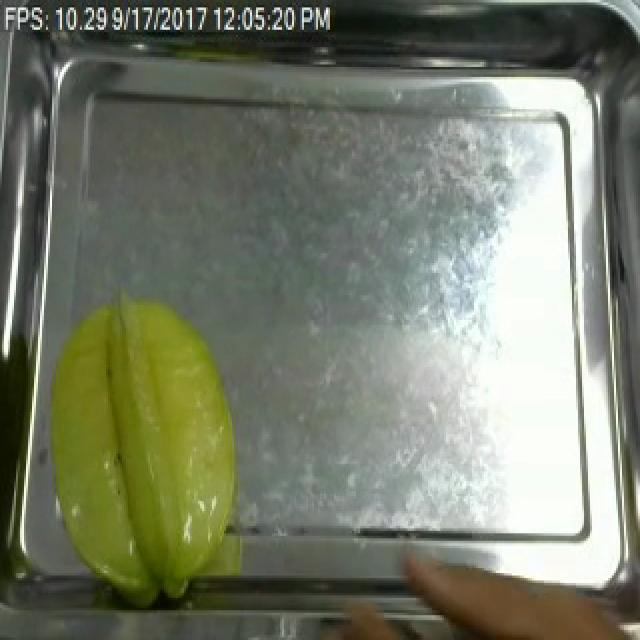fruit: (32, 280, 252, 620), (392, 533, 640, 640)
